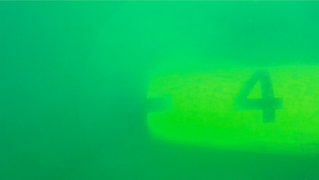4: (237, 68, 283, 124)
pipe: (146, 61, 319, 156)
